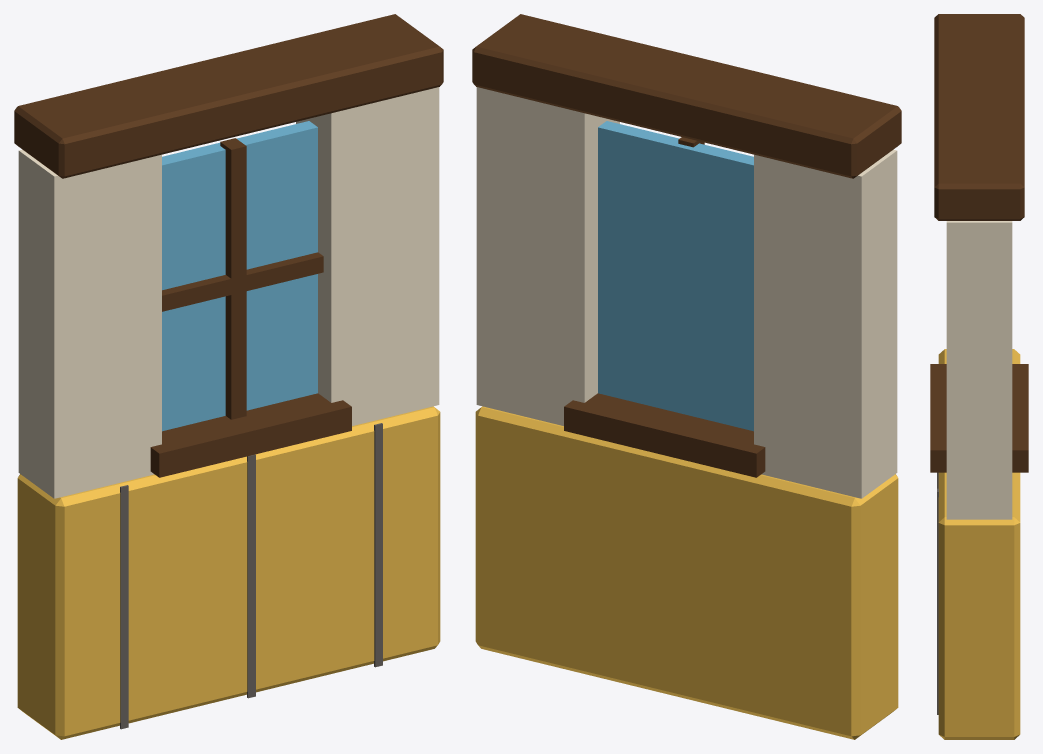
The model's file is PR_Building_Pencere_Altin.fbx.
3 views of the same model, side by side, from view 1: azimuth 30°, elevation 25°; view 2: azimuth 150°, elevation 25°; view 3: azimuth 270°, elevation 25° (orthographic). The views are drawn at different scales.
Visible parts, largest first — view 1: PR_Building_Pencere_Altin; view 2: PR_Building_Pencere_Altin; view 3: PR_Building_Pencere_Altin.
Boxes of the visible parts, x1,y1,x2,y2 form: PR_Building_Pencere_Altin: [14, 14, 443, 739]; PR_Building_Pencere_Altin: [472, 14, 901, 739]; PR_Building_Pencere_Altin: [930, 14, 1028, 739].
Bounding box in the file's own units: 1 × 1.5 × 0.24.
